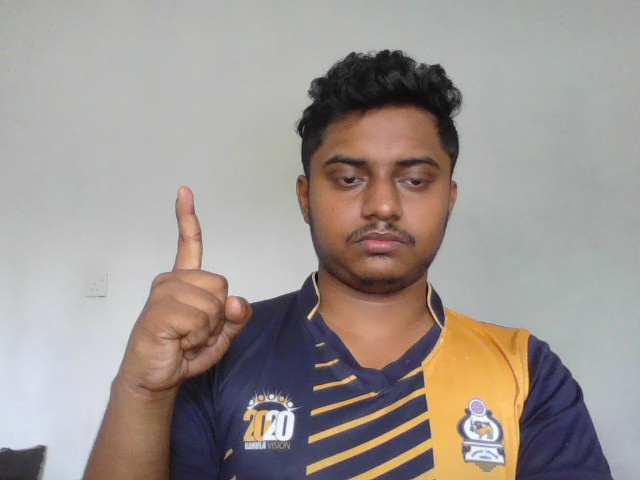Me: (130, 184, 257, 388)
